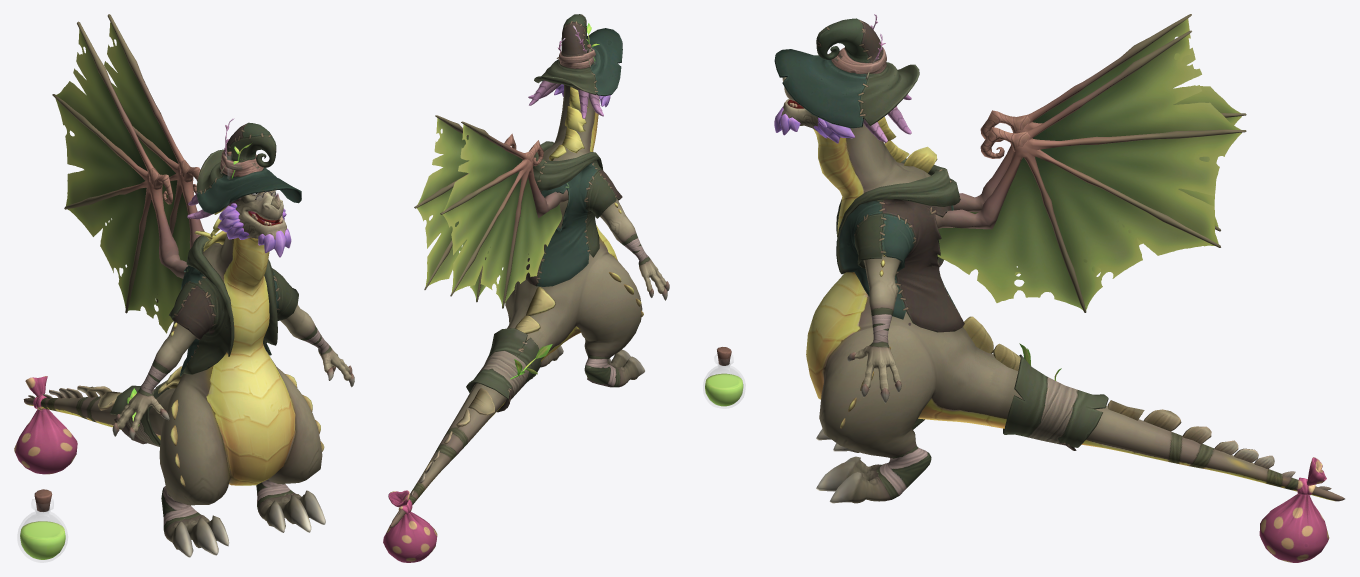
The model's file is dragon.obj.
3 renders of one model, left to right at view 1: azimuth 30°, elevation 25°; view 2: azimuth 150°, elevation 25°; view 3: azimuth 270°, elevation 25°, orthographic. The views are drawn at different scales.
Parts seen in each view (by area): view 1: SK_CNS1100_DamonDragon.mo_SK_CNS1100_DamonDragon.md; view 2: SK_CNS1100_DamonDragon.mo_SK_CNS1100_DamonDragon.md; view 3: SK_CNS1100_DamonDragon.mo_SK_CNS1100_DamonDragon.md.
Boxes of the visible parts, box(x1,y1,x2,y2) form: SK_CNS1100_DamonDragon.mo_SK_CNS1100_DamonDragon.md: box(14, 14, 354, 562); SK_CNS1100_DamonDragon.mo_SK_CNS1100_DamonDragon.md: box(383, 14, 745, 562); SK_CNS1100_DamonDragon.mo_SK_CNS1100_DamonDragon.md: box(774, 14, 1344, 562).
Size of the model in its own units: 132 by 188 by 179.
